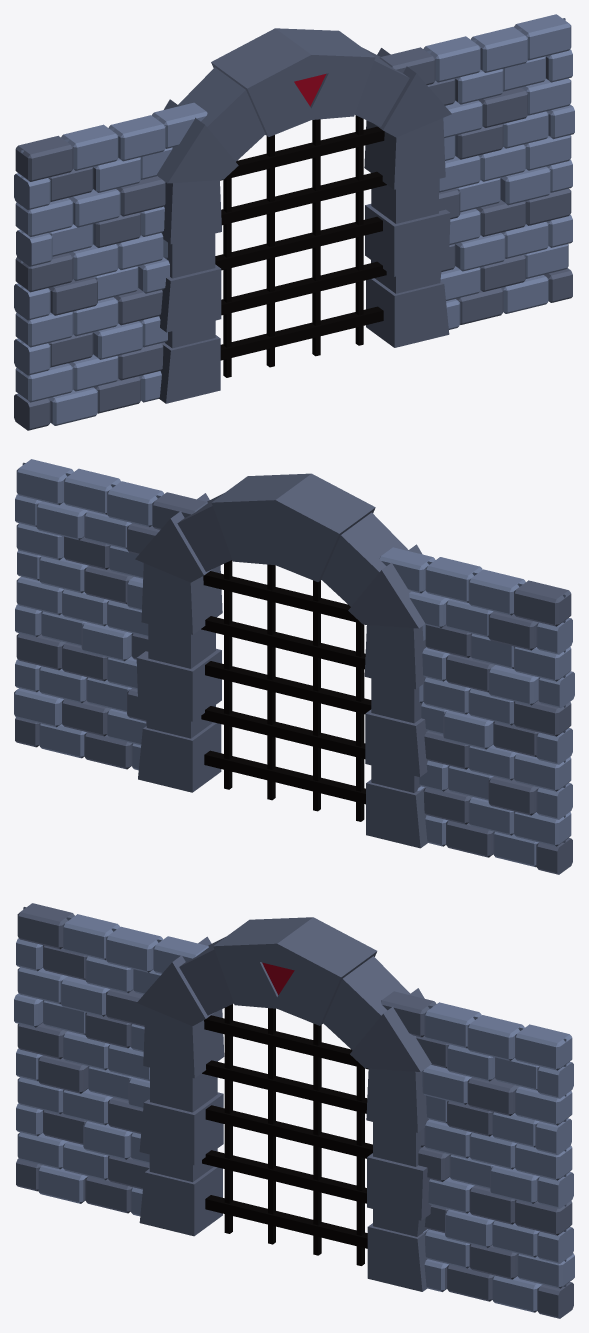
File: brick wall with bars.001.fbx
The picture shows the model from 3 angles, top to bottom: view 1: azimuth 30°, elevation 25°; view 2: azimuth 150°, elevation 25°; view 3: azimuth 330°, elevation 25°; orthographic projection.
Visible parts, largest first — view 1: brick wall with bars.001, bars.002; view 2: brick wall with bars.001, bars.002; view 3: brick wall with bars.001, bars.002.
Boxes of the visible parts, x1=… form: brick wall with bars.001: x1=14, y1=14, x2=574, y2=430; bars.002: x1=215, y1=115, x2=386, y2=377; brick wall with bars.001: x1=14, y1=459, x2=574, y2=874; bars.002: x1=201, y1=560, x2=371, y2=821; brick wall with bars.001: x1=14, y1=903, x2=574, y2=1318; bars.002: x1=202, y1=1004, x2=372, y2=1265.
Size of the model in its own units: 600 by 336 by 69.43.
